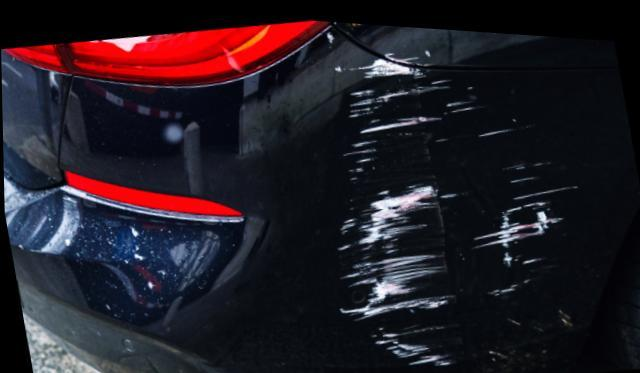scratch: (329, 41, 574, 372)
